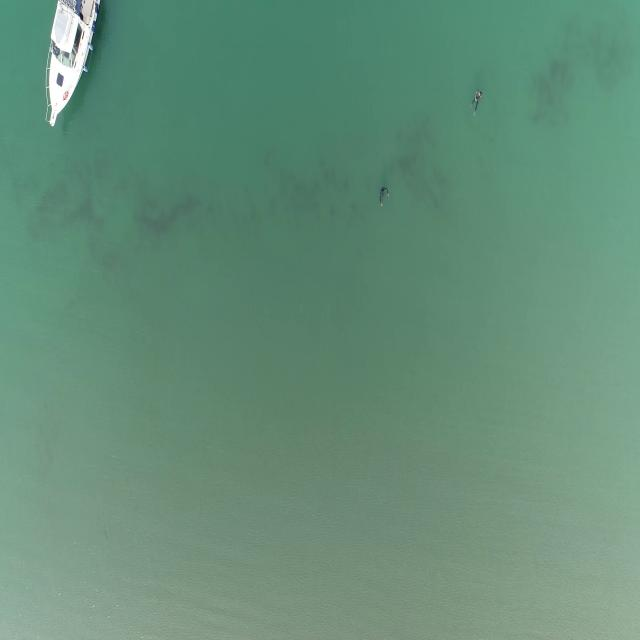boat: (40, 0, 100, 130)
person: (472, 92, 483, 120), (377, 188, 390, 210)
